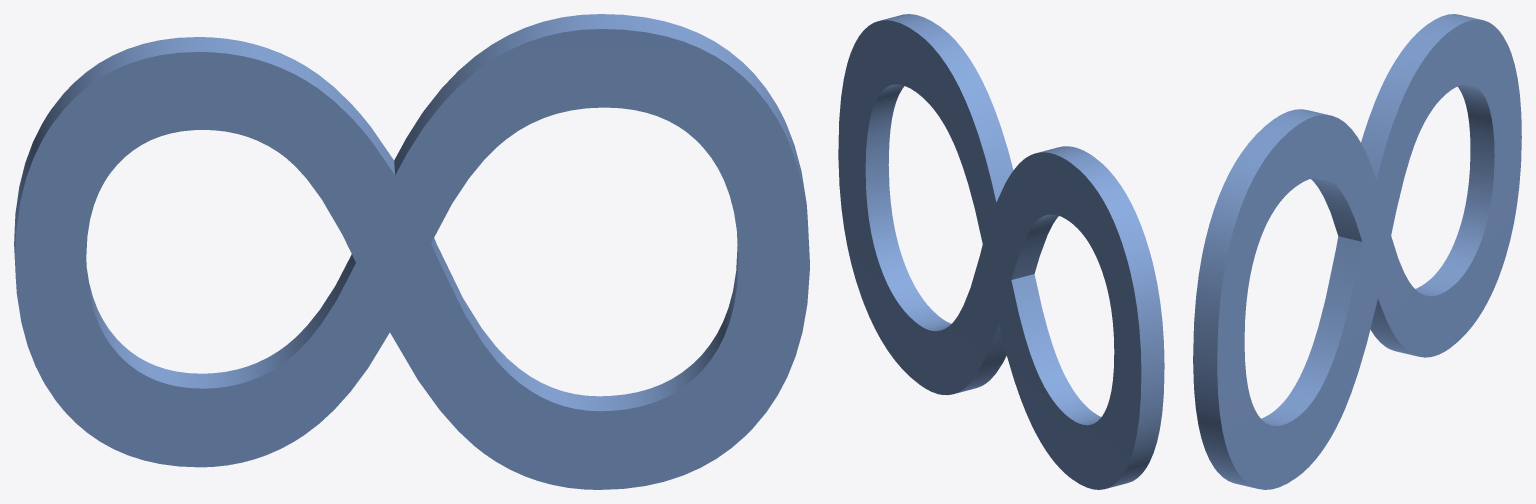
File: New_Number_8.gltf
3 views of the same model, side by side, from view 1: azimuth 30°, elevation 25°; view 2: azimuth 150°, elevation 25°; view 3: azimuth 270°, elevation 25° (orthographic). The views are drawn at different scales.
Visible parts, largest first — view 1: Part 512; view 2: Part 512; view 3: Part 512.
Boxes of the visible parts, box(x1,y1,x2,y2) form: Part 512: box(14, 14, 809, 489); Part 512: box(838, 14, 1164, 489); Part 512: box(1193, 14, 1521, 489).
Size of the model in its own units: 0.00502 by 0.00362 by 0.00305.
